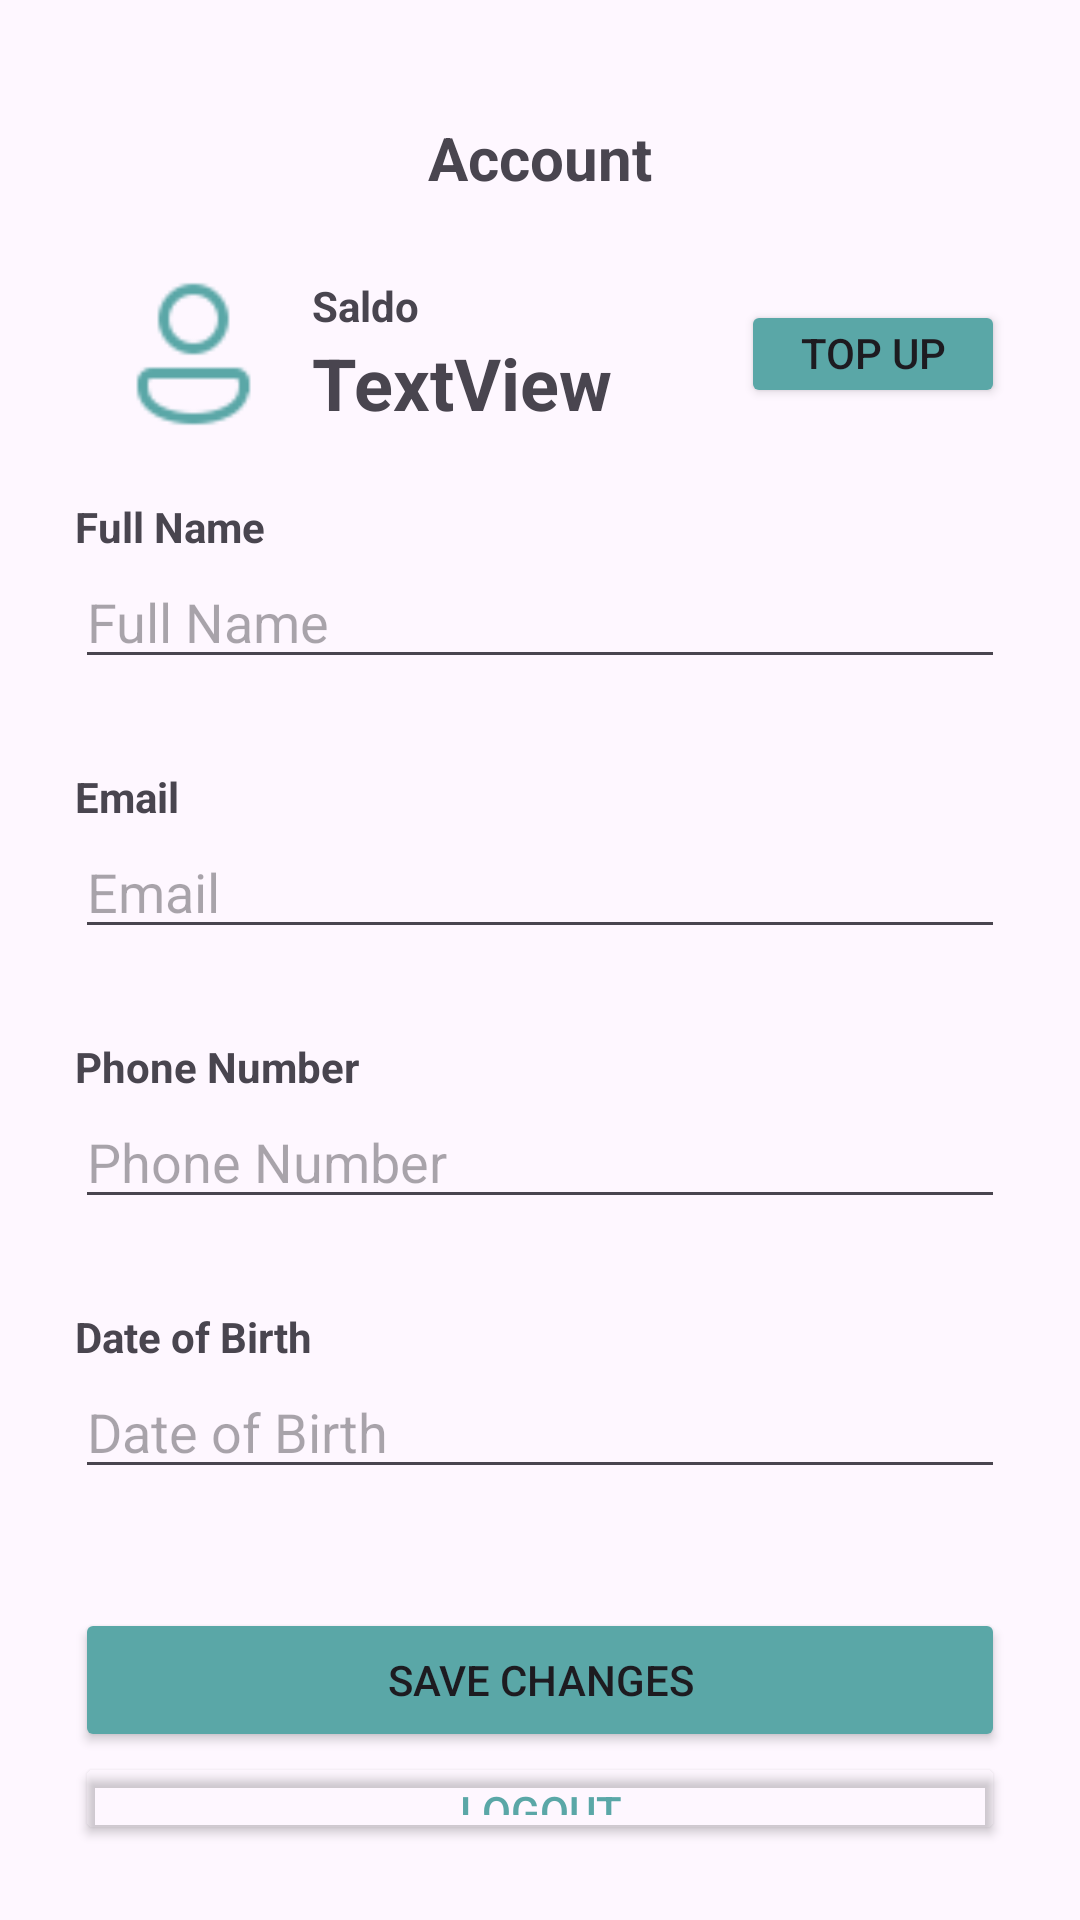

Icon bounding boxes for this 1080 x 1920 phone screenshot, format bbox=[x1, y1, x2, y2]:
profile: bbox=[136, 283, 251, 425]
